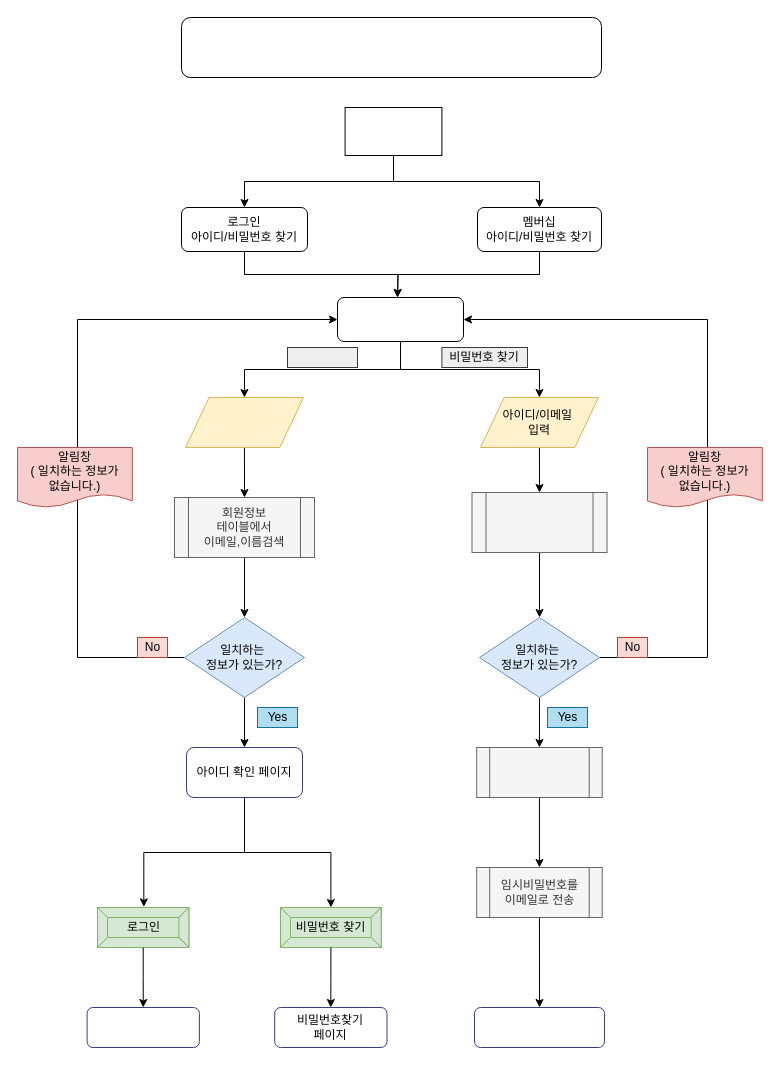
Image size: 780x1065. Some labels were removed from this diagram. The shapes that lost their labels are listed below. From the top down, each one's centre as x and y in pixels, then its label:
At [391,47]: "아이디/비밀번호 찾기 프로세스".
At [393,131]: "접근경로".
At [400,319]: "아이디/비밀번호 찾기 페이지".
At [322,357]: "아이디 찾기".
At [243,422]: "이름/이메일 입력".
At [539,522]: "회원정보 테이블에서 아이디/이메일 검색".
At [539,772]: "비밀번호를 임시 비밀번호로 변경".
At [142,1027]: "로그인 페이지".
At [539,1027]: "이메일 확인 요청 페이지".
